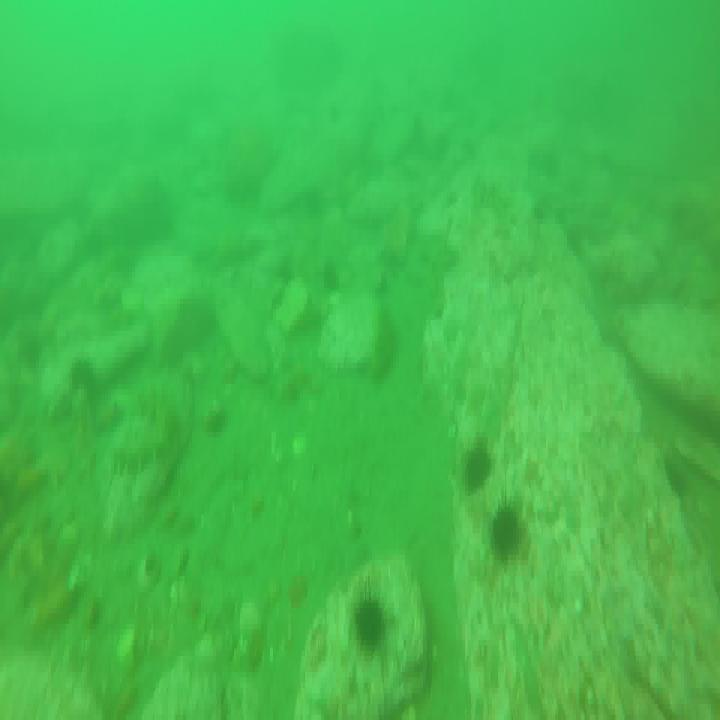echinus: (492, 502, 524, 559), (355, 595, 386, 651), (461, 438, 492, 489)
holothurian: (108, 398, 175, 475)
